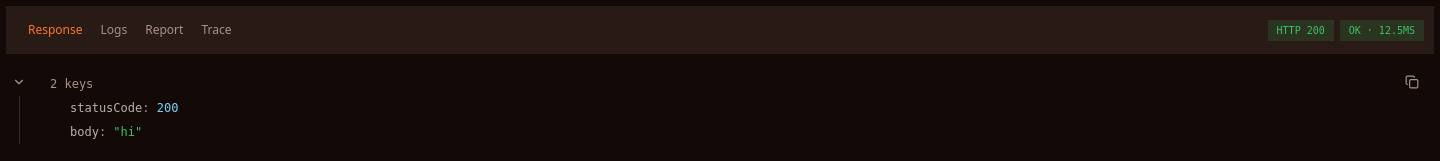
Test: renders logs as parsed rows rather than one flat blob
Click the tab "Logs" at (114, 30), box [92,16,136,44]
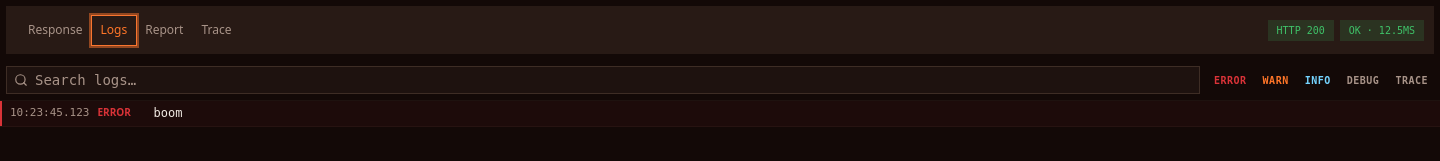
Now the text "10:23:45.123" is shown, box [10,106,90,119]
Now the button "ERROR" is shown, box [1208,70,1253,90]
Now the text "boom" is shown, box [154,106,182,120]
